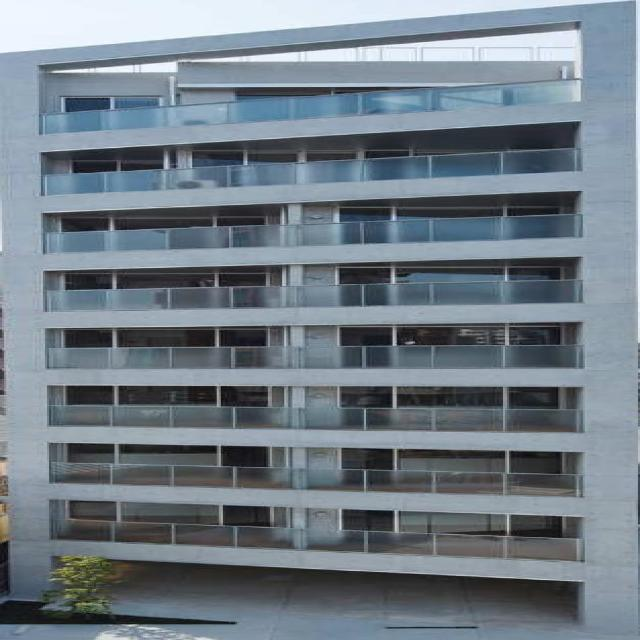railing: (36, 80, 576, 137), (45, 148, 580, 195), (53, 521, 585, 563), (49, 214, 583, 254), (51, 463, 580, 498), (44, 280, 578, 312), (48, 406, 578, 434), (62, 345, 581, 369), (176, 46, 581, 61), (46, 62, 175, 73)
window: (195, 149, 548, 169), (343, 510, 563, 539), (338, 448, 566, 474), (60, 503, 269, 529), (63, 443, 270, 468), (339, 387, 561, 408), (333, 265, 563, 285), (61, 386, 267, 407), (341, 326, 567, 345), (66, 329, 270, 349), (333, 207, 562, 224), (66, 273, 271, 290), (56, 216, 262, 232), (63, 97, 164, 114), (238, 90, 392, 101), (71, 159, 174, 173)
